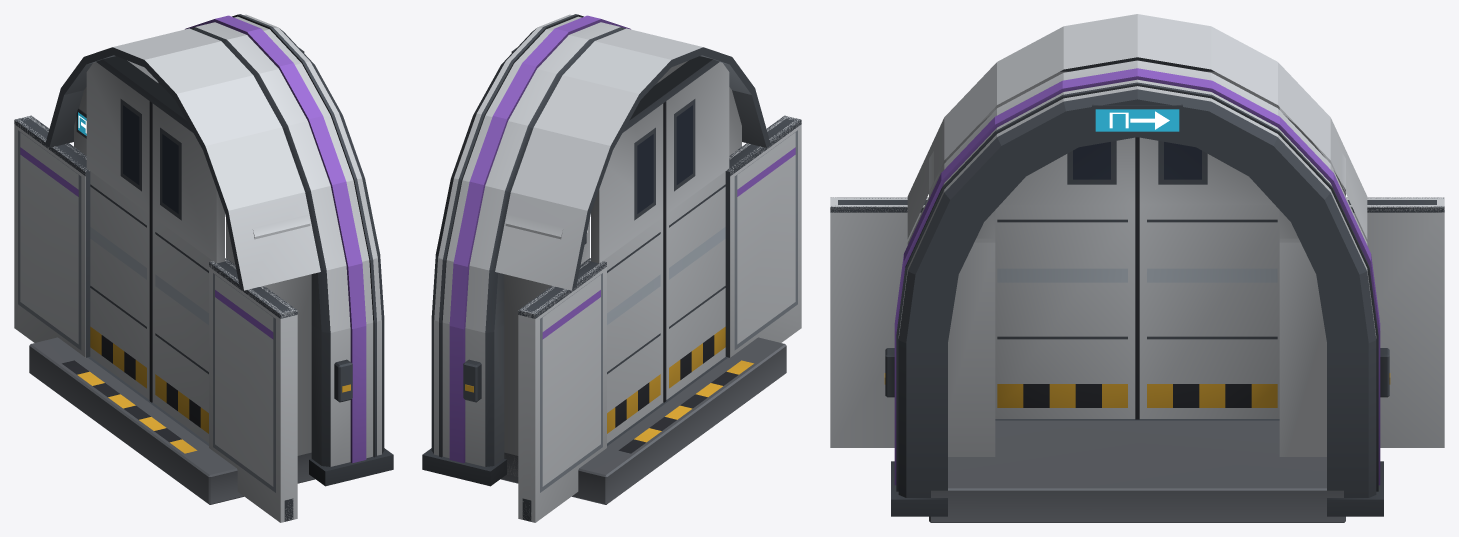
The model's file is doorway.glb.
3 views of the same model, side by side, from view 1: azimuth 30°, elevation 25°; view 2: azimuth 150°, elevation 25°; view 3: azimuth 270°, elevation 25° (orthographic). The views are drawn at different scales.
Parts seen in each view (by area): view 1: Frame, FrameTop, DoorR, DoorL, DoorLTop, DoorRTop; view 2: Frame, FrameTop, DoorL, DoorR, DoorRTop, DoorLTop; view 3: Frame, FrameTop, DoorL, DoorR, DoorLTop, DoorRTop, Sign.
Part boxes in pixels (x1,y1,x2,y2): Frame: [14, 115, 393, 522]; FrameTop: [45, 14, 379, 290]; DoorR: [90, 171, 150, 401]; DoorL: [150, 217, 212, 443]; DoorLTop: [150, 102, 224, 263]; DoorRTop: [86, 62, 150, 215]; Frame: [422, 115, 801, 522]; FrameTop: [436, 14, 770, 290]; DoorL: [665, 171, 725, 401]; DoorR: [603, 217, 665, 443]; DoorRTop: [591, 102, 665, 263]; DoorLTop: [665, 62, 729, 215]; Frame: [830, 197, 1444, 522]; FrameTop: [904, 14, 1370, 274]; DoorL: [995, 205, 1137, 419]; DoorR: [1137, 205, 1279, 419]; DoorLTop: [995, 71, 1137, 205]; DoorRTop: [1137, 71, 1279, 205]; Sign: [1092, 104, 1182, 134].
Bounding box in the file's own units: 1.18 × 2.53 × 3.24.
